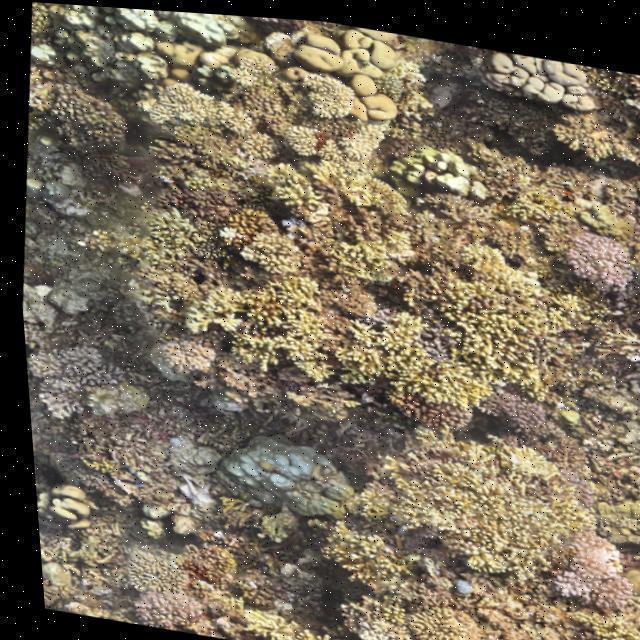Bleached Coral: (62, 4, 239, 103)
Healthy Coral: (170, 246, 522, 414), (270, 25, 424, 126), (478, 49, 602, 119), (557, 220, 640, 302)
